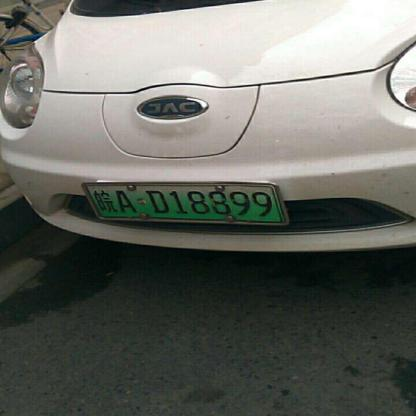lp: (87, 184, 283, 221)
